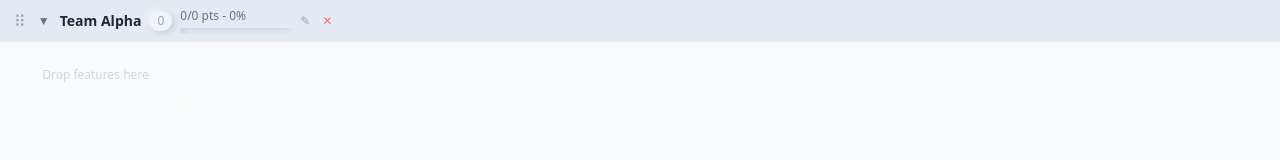
Test case: SwimlaneRow › clicking rename button shows input pre-filled with current name
Click the button titled "Rename swimlane" at (305, 21), box [300,13,310,29]
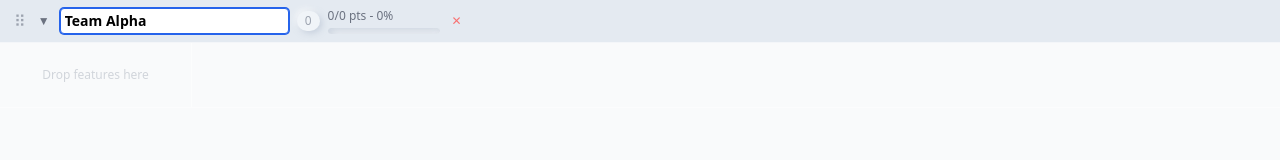
Result: the field holds "Team Alpha" at [60,8,289,34]
